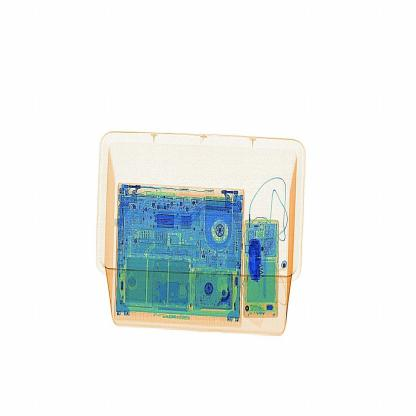scissors: (233, 230, 273, 292)
